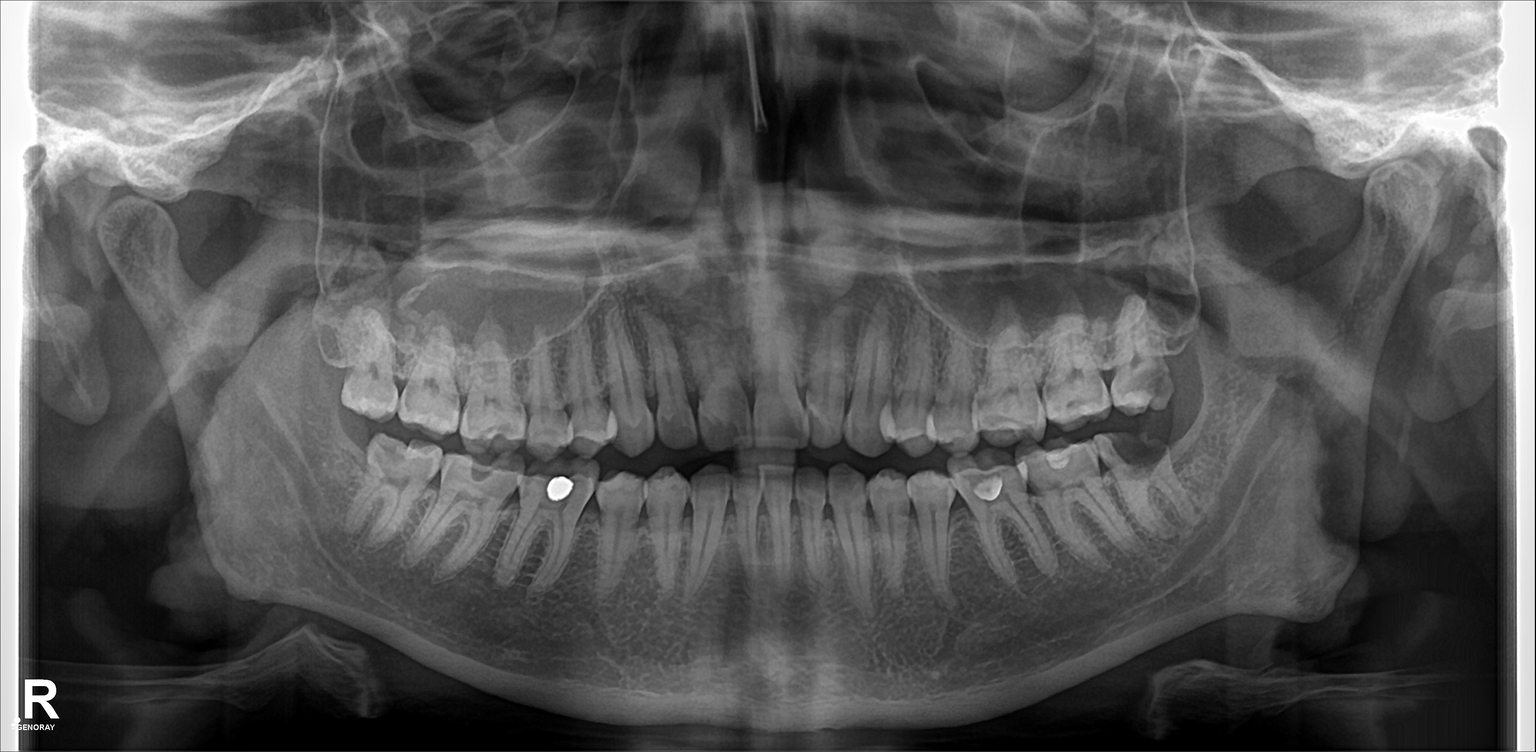Impacted Third Molar: (1110, 447, 1190, 532), (361, 439, 425, 542)
Missing Tooth: (1166, 300, 1205, 402)
